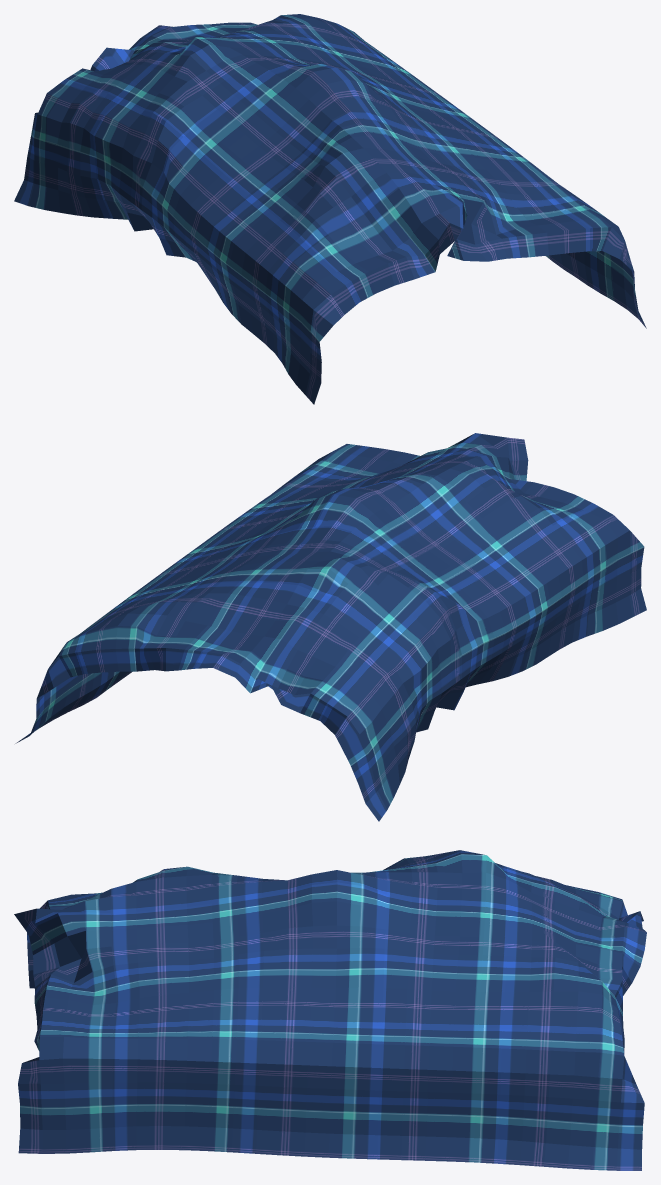
The model's file is sleeping.glb.
3 views of the same model, one above another, from view 1: azimuth 30°, elevation 25°; view 2: azimuth 150°, elevation 25°; view 3: azimuth 270°, elevation 25° (orthographic). The views are drawn at different scales.
Visible parts, largest first — view 1: Plane; view 2: Plane; view 3: Plane.
Boxes of the visible parts, box(x1,y1,x2,y2) form: Plane: box(14, 14, 646, 404); Plane: box(15, 433, 646, 821); Plane: box(14, 850, 646, 1170).
Size of the model in its own units: 1.46 by 0.7418 by 2.13.
1 material, 1 textured.
